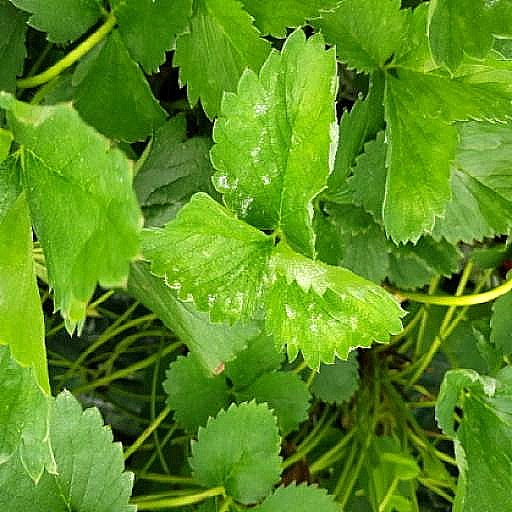Powdery Mildew Leaf: (208, 252, 340, 487), (260, 139, 410, 272), (137, 184, 277, 322)
